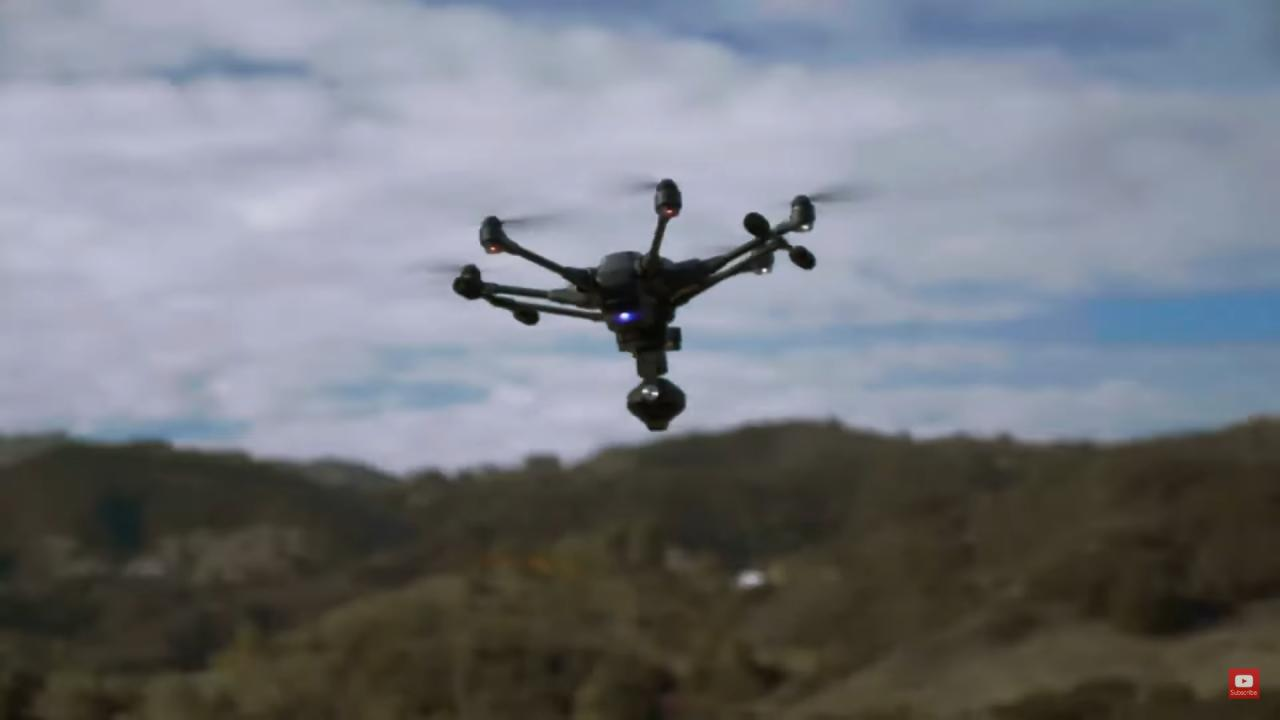Drone: (412, 168, 887, 446)
